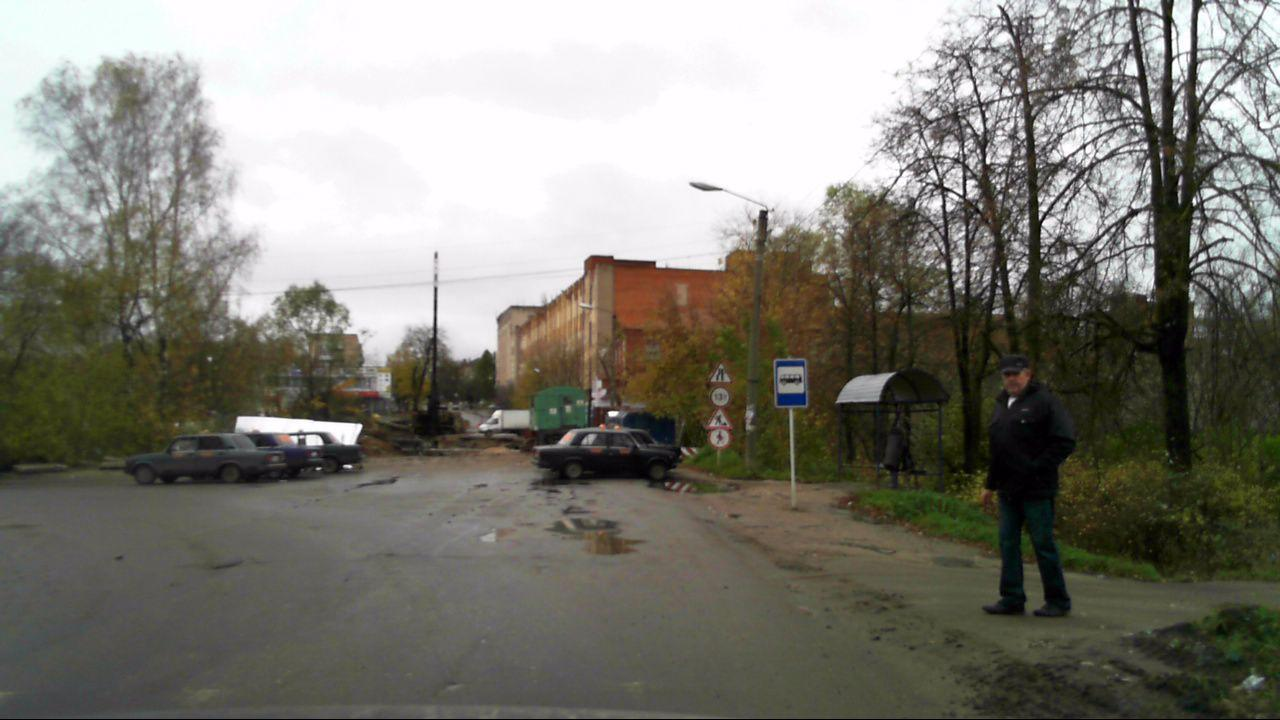1_20_3: (709, 359, 733, 384)
1_25: (705, 407, 733, 428)
3_10: (708, 428, 732, 449)
3_11: (710, 386, 729, 406)
5_16: (775, 358, 809, 408)
